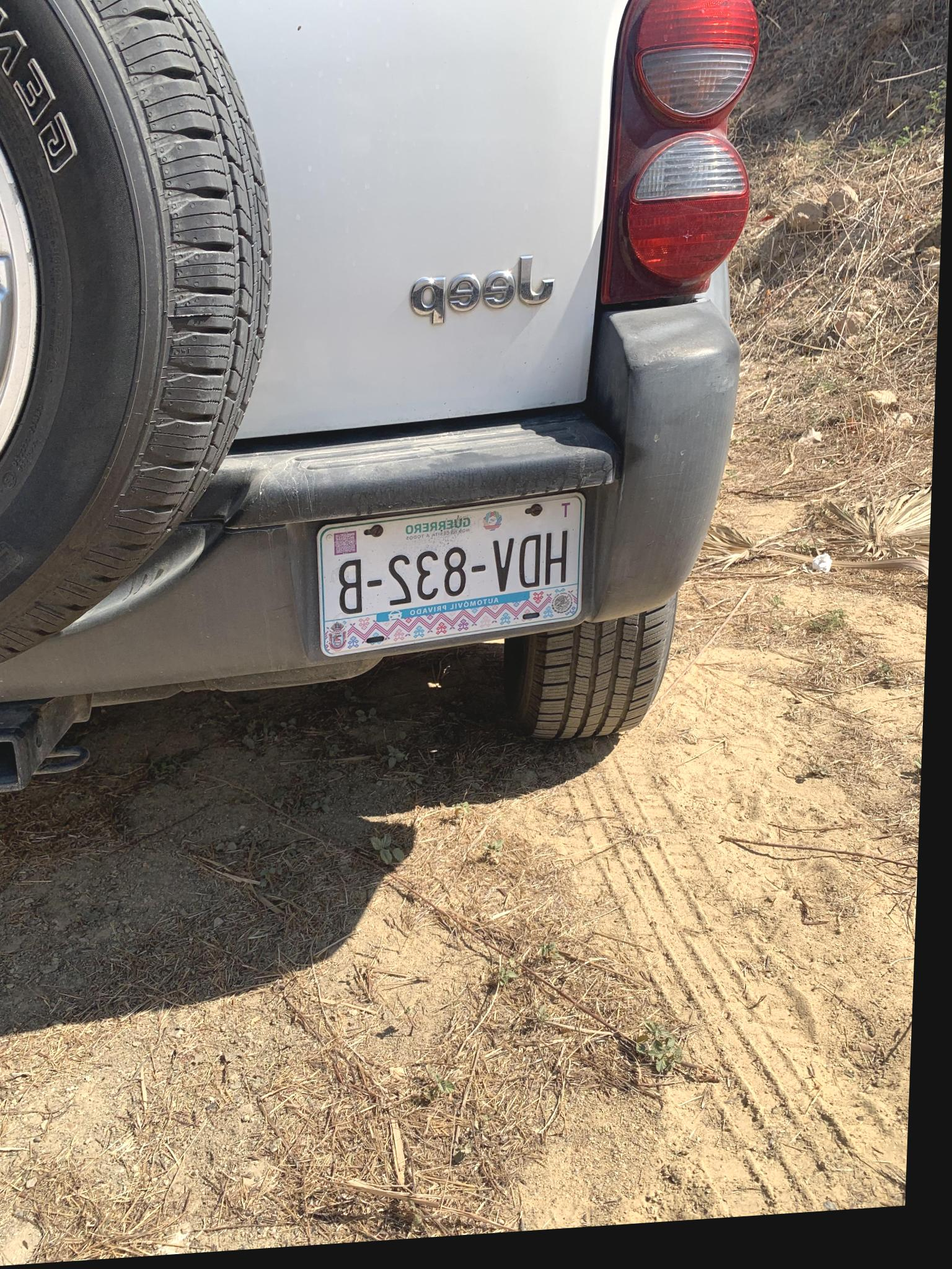License_Plate: (284, 473, 628, 675)
